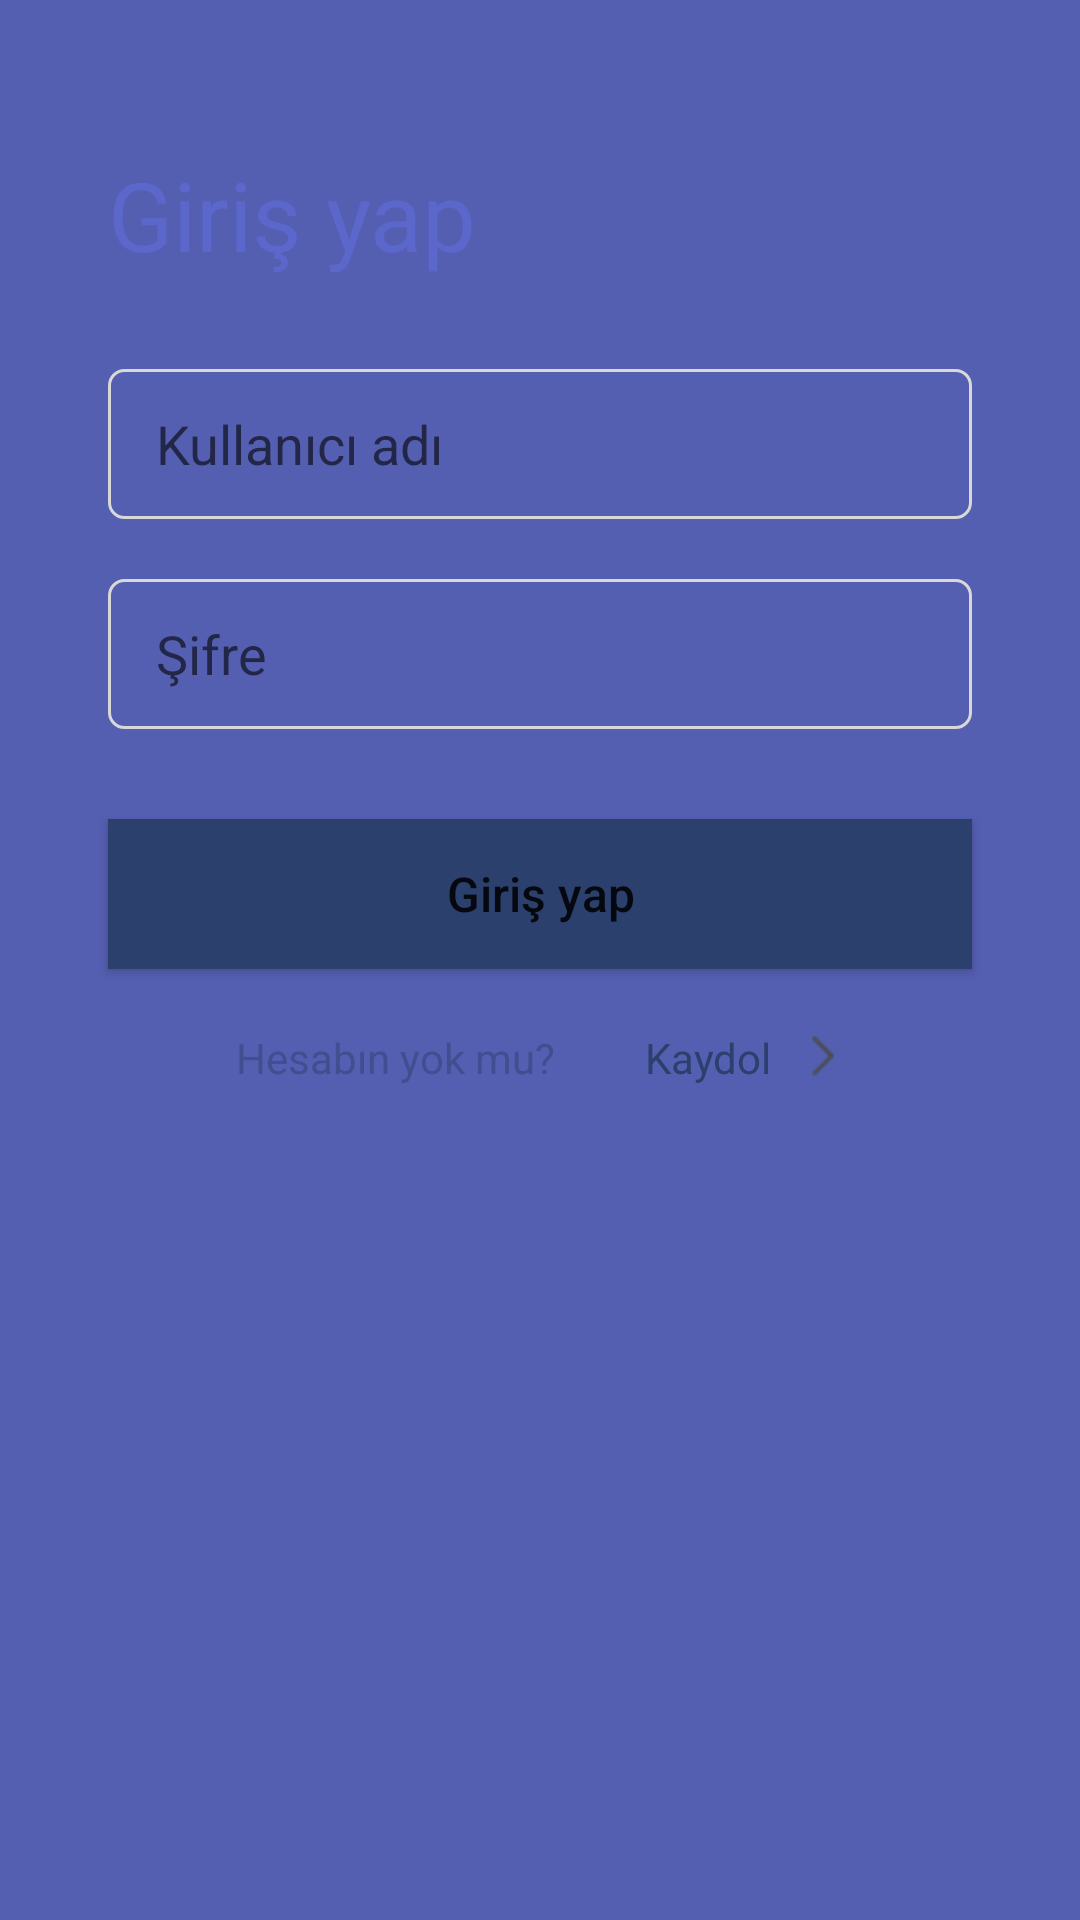

Point at icon controls on the screen. Image size 1080 × 1920, points as (x,y).
forward: (823,1056)
